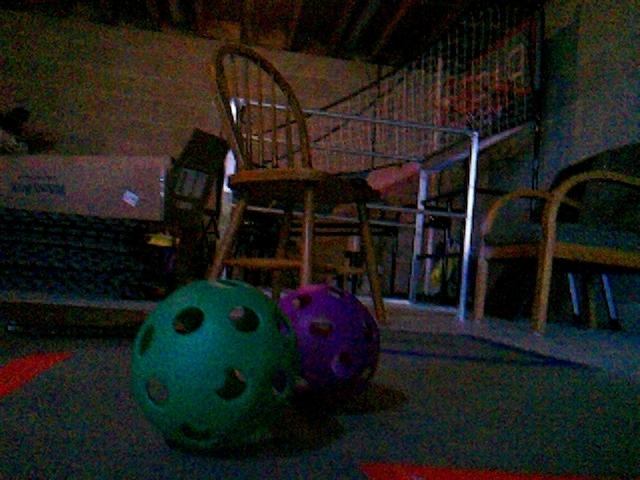Green: (128, 275, 304, 451)
Purple: (273, 283, 383, 408)
